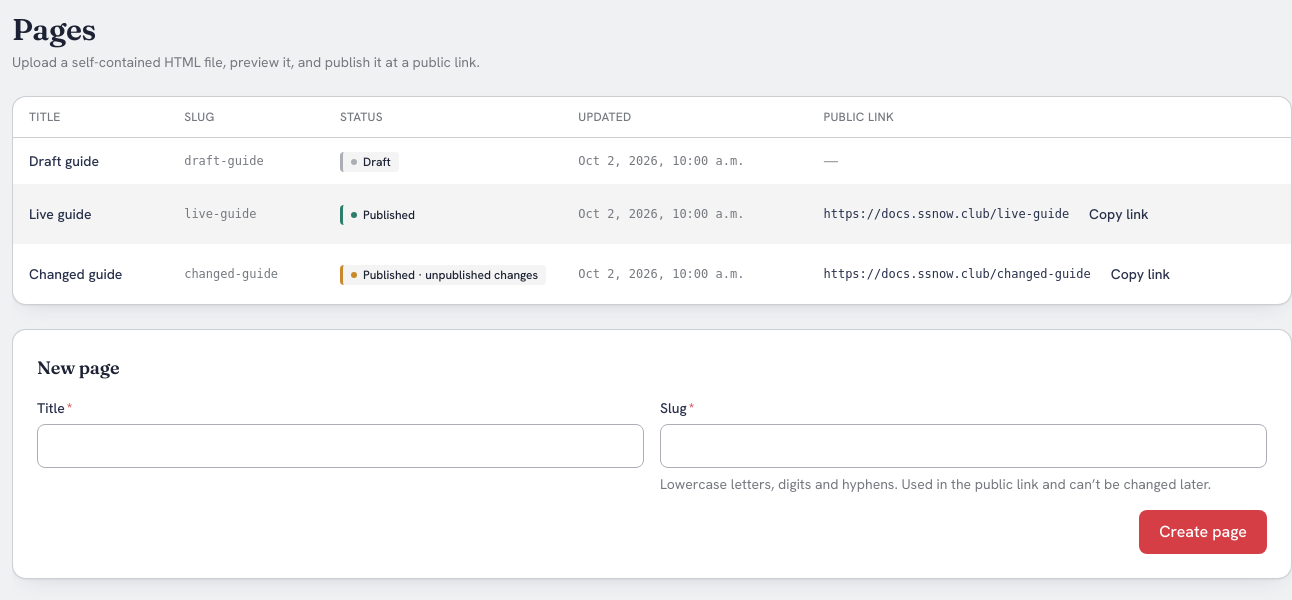
Test: PagesListPage create › rejects malformed slugs and empty titles without a request
Expected: the link "Draft guide" is shown, [29, 152, 99, 170]
Type "Bad Slug" into the field labelled "Slug*". click: {"x": 964, "y": 446}
box: [660, 424, 1267, 468]
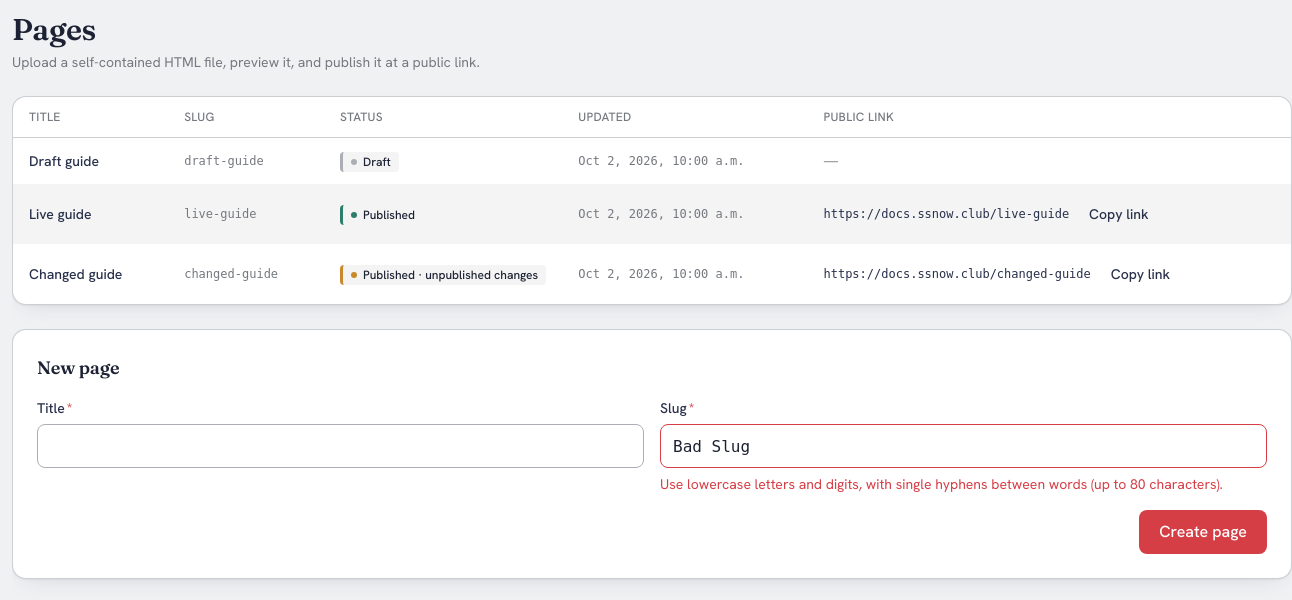
Now the text "Use lowercase letters and digits" is shown, box [660, 475, 1223, 493]
Click the button named "Create page". click: {"x": 1203, "y": 532}
box: [1139, 510, 1267, 554]
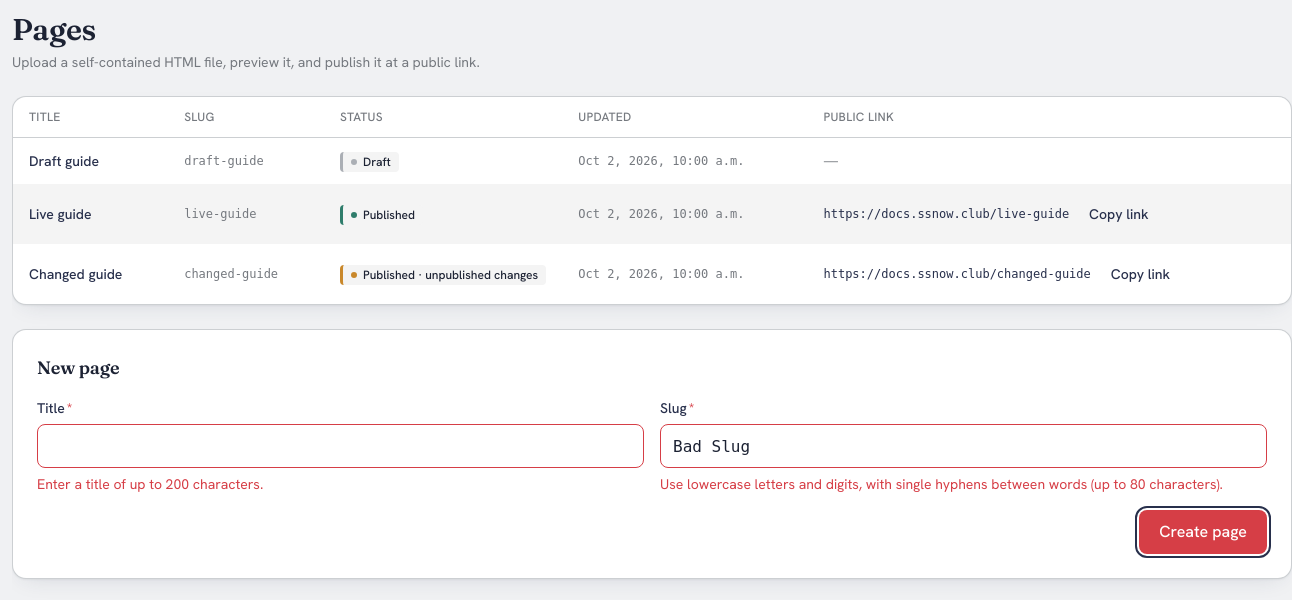
Now the text "Enter a title of up to 200 characters." is shown, box [37, 475, 263, 493]
